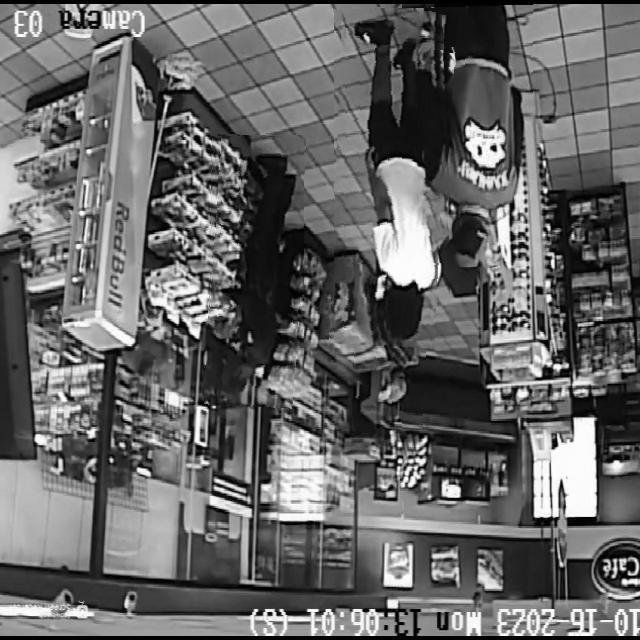Normal: (334, 8, 452, 348), (402, 0, 550, 267), (208, 135, 304, 408), (353, 312, 426, 429)
